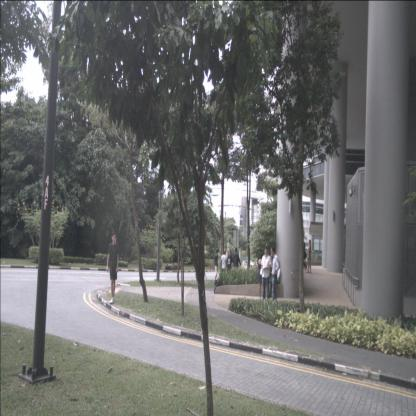human-pedestrian-adult: (106, 232, 119, 304), (270, 246, 280, 305), (261, 246, 271, 303), (267, 260, 281, 298), (257, 251, 265, 301), (233, 247, 241, 284), (226, 250, 234, 284), (220, 250, 228, 284), (300, 236, 308, 270), (213, 249, 221, 281), (306, 240, 311, 273)
